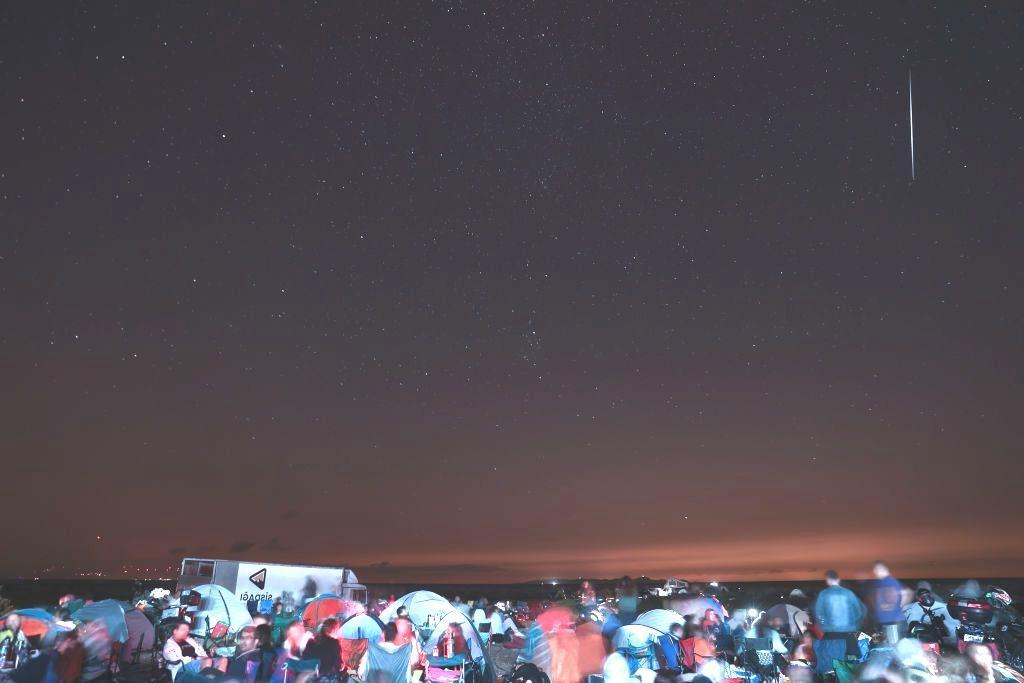meteorite: (890, 53, 930, 187)
